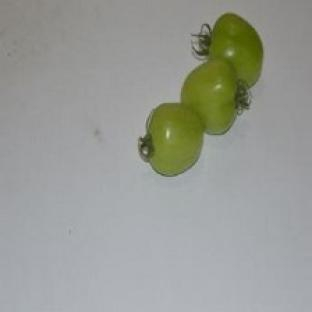Tomato: (194, 13, 263, 87), (182, 58, 249, 133), (140, 104, 203, 175)
